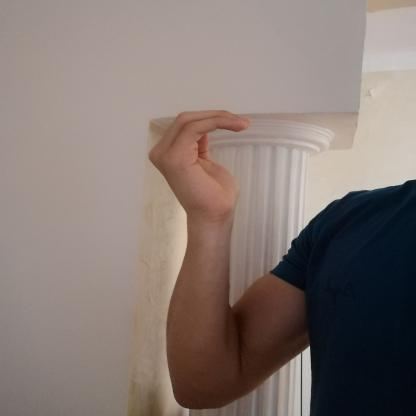HAA: (133, 101, 274, 222)
